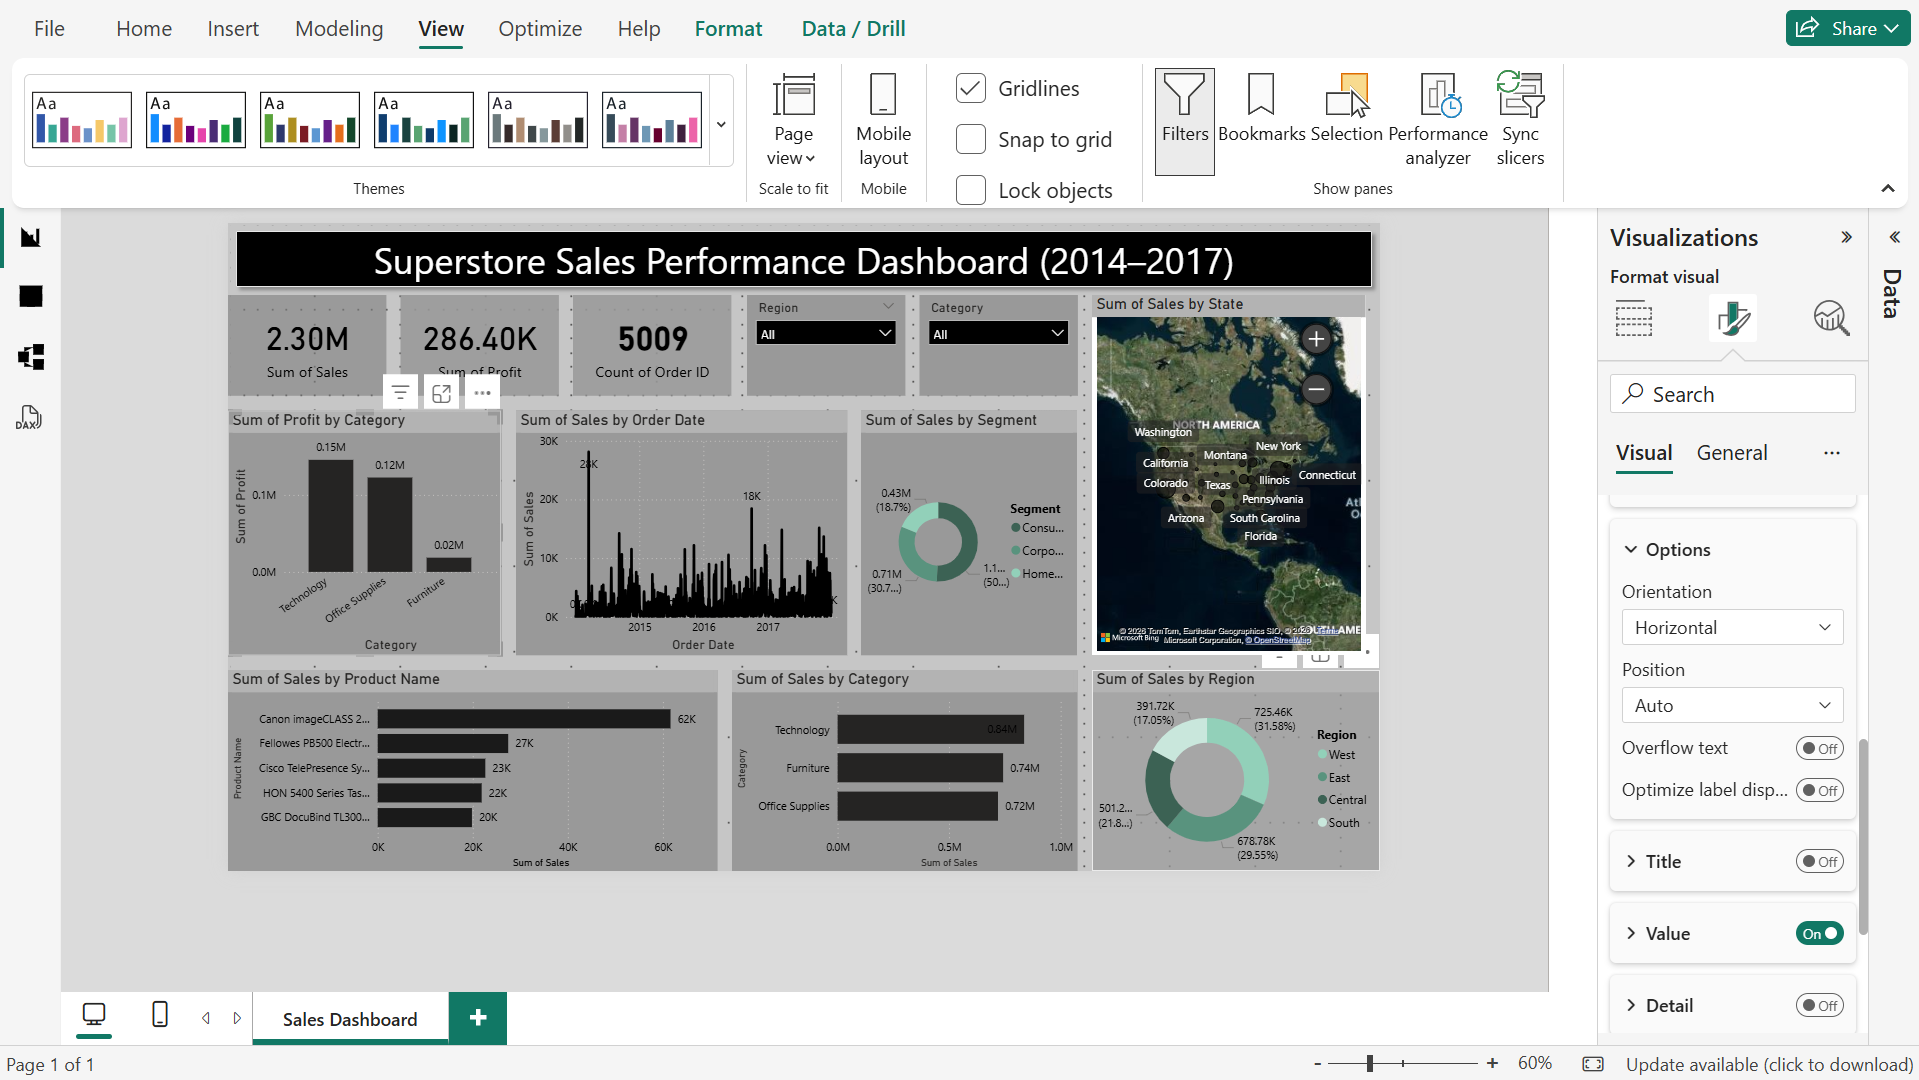

The dashboard page shown, as its layout file describes it:
{"tool":"powerbi","page":{"name":"Sales Dashboard","canvas":[1280,720],"ordinal":0},"visuals":[{"type":"card","fields":{"Values":["Sum(superstore_sales csv).Sales)"]},"box":[0,80,176,112],"z":0},{"type":"card","fields":{"Values":["Sum(superstore_sales csv).Profit)"]},"box":[192,80,176,112],"z":1000},{"type":"card","fields":{"Values":["Count(superstore_sales csv).Order ID)"]},"box":[384,80,176,112],"z":2000},{"type":"clusteredBarChart","fields":{"Category":["superstore_sales csv).Category"],"Y":["Sum(superstore_sales csv).Sales)"]},"box":[560,496,384,224],"z":3000},{"type":"donutChart","fields":{"Category":["superstore_sales csv).Region"],"Y":["Sum(superstore_sales csv).Sales)"]},"box":[960,496,320,224],"z":4000},{"type":"lineChart","fields":{"Y":["Sum(superstore_sales csv).Sales)"],"Category":["superstore_sales csv).Order Date"]},"box":[320,208,368,272],"z":5000},{"type":"clusteredBarChart","fields":{"Category":["superstore_sales csv).Product Name"],"Y":["Sum(superstore_sales csv).Sales)"]},"box":[0,496,544,224],"z":6000},{"type":"clusteredColumnChart","fields":{"Category":["superstore_sales csv).Category"],"Y":["Sum(superstore_sales csv).Profit)"]},"box":[0,208,304,272],"z":7000},{"type":"donutChart","fields":{"Category":["superstore_sales csv).Segment"],"Y":["Sum(superstore_sales csv).Sales)"]},"box":[704,208,240,272],"z":8000},{"type":"map","fields":{"Category":["superstore_sales csv).State"],"Size":["Sum(superstore_sales csv).Sales)"]},"box":[960,80,304,400],"z":9000},{"type":"slicer","fields":{"Values":["superstore_sales csv).Region"]},"box":[576,80,176,112],"z":10000},{"type":"slicer","fields":{"Values":["superstore_sales csv).Category"]},"box":[768,80,176,112],"z":11000},{"type":"textbox","box":[143.8,15.4,570.8,38.5],"z":12000},{"type":"shape","box":[0,0,1280,80],"z":13000}]}

Visuals, with their boxes on the page's 1280x720 design canvas (x1, y1, x2, y2). These are canvas units, not pixel positions in the 1919x1080 screenshot, which may show the page scaled, cropped or inside an application window:
card - Sum(superstore_sales csv).Sales): bbox=(0, 80, 176, 192)
card - Sum(superstore_sales csv).Profit): bbox=(192, 80, 368, 192)
card - Count(superstore_sales csv).Order ID): bbox=(384, 80, 560, 192)
clusteredBarChart - superstore_sales csv).Category x Sum(superstore_sales csv).Sales): bbox=(560, 496, 944, 720)
donutChart - superstore_sales csv).Region x Sum(superstore_sales csv).Sales): bbox=(960, 496, 1280, 720)
lineChart - Sum(superstore_sales csv).Sales) x superstore_sales csv).Order Date: bbox=(320, 208, 688, 480)
clusteredBarChart - superstore_sales csv).Product Name x Sum(superstore_sales csv).Sales): bbox=(0, 496, 544, 720)
clusteredColumnChart - superstore_sales csv).Category x Sum(superstore_sales csv).Profit): bbox=(0, 208, 304, 480)
donutChart - superstore_sales csv).Segment x Sum(superstore_sales csv).Sales): bbox=(704, 208, 944, 480)
map - superstore_sales csv).State x Sum(superstore_sales csv).Sales): bbox=(960, 80, 1264, 480)
slicer - superstore_sales csv).Region: bbox=(576, 80, 752, 192)
slicer - superstore_sales csv).Category: bbox=(768, 80, 944, 192)
textbox: bbox=(144, 15, 715, 54)
shape: bbox=(0, 0, 1280, 80)
